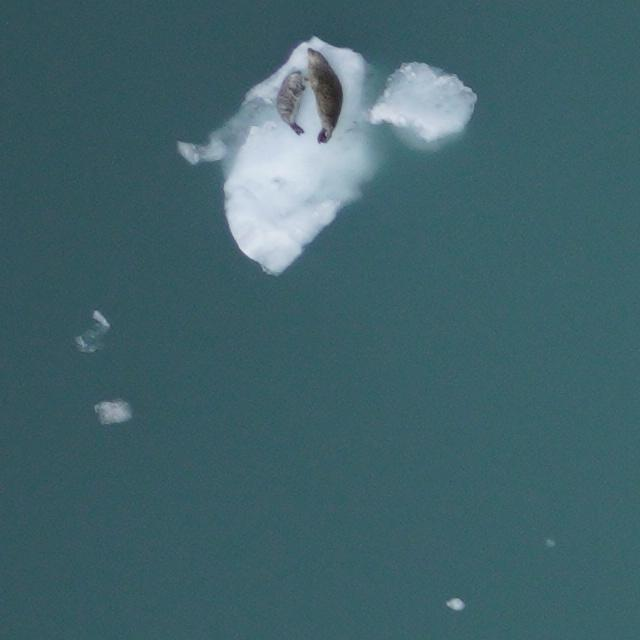seal: (301, 45, 347, 147), (274, 67, 314, 137)
